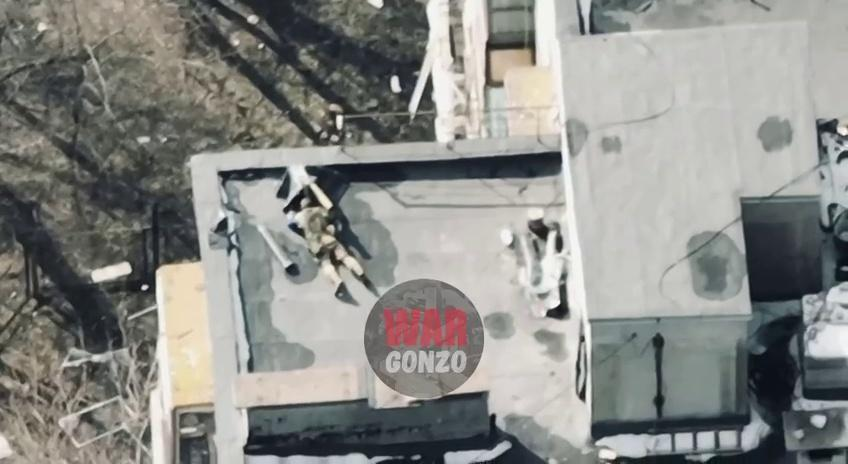person: (282, 196, 370, 298)
